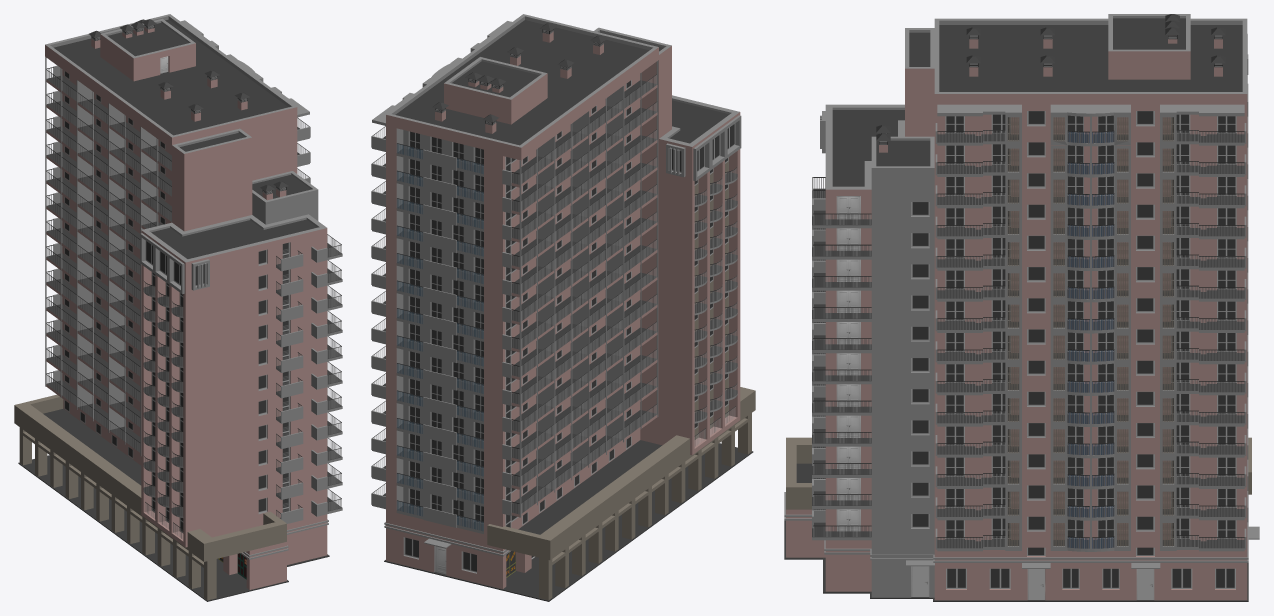
The model's file is Building4.glb.
3 renders of one model, left to right at view 1: azimuth 30°, elevation 25°; view 2: azimuth 150°, elevation 25°; view 3: azimuth 270°, elevation 25°, orthographic. The views are drawn at different scales.
Visible parts, largest first — view 1: monaco residential 3_Material #25_0; view 2: monaco residential 3_Material #25_0; view 3: monaco residential 3_Material #25_0.
Part boxes in pixels (<box>): monaco residential 3_Material #25_0: <box>14,14,342,601</box>; monaco residential 3_Material #25_0: <box>371,14,755,601</box>; monaco residential 3_Material #25_0: <box>784,14,1259,601</box>.
Bounding box in the file's own units: 21.53 × 52.21 × 41.44.
1 material, 1 textured.
